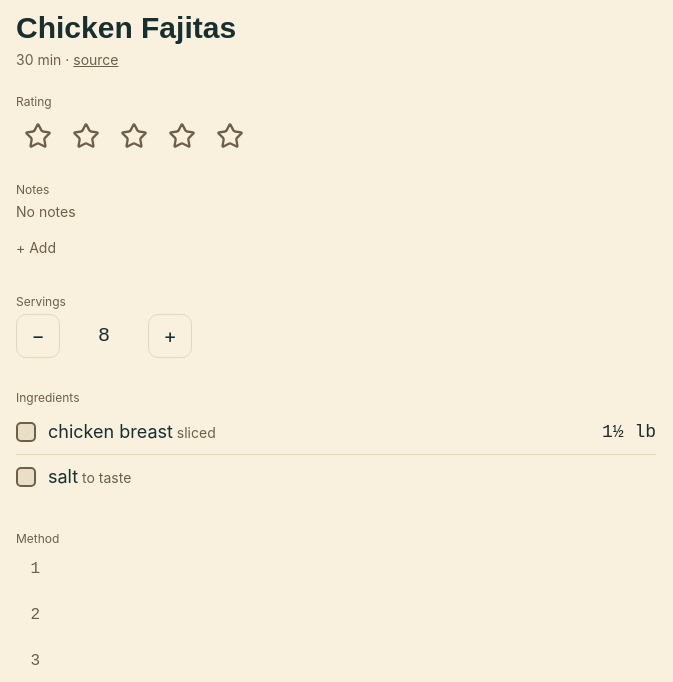
Scenario: the cook view › says the amounts are stale while it scales, rather than showing them as the new count
Click the button named "More servings". click: [170, 336]
box: [148, 314, 192, 358]
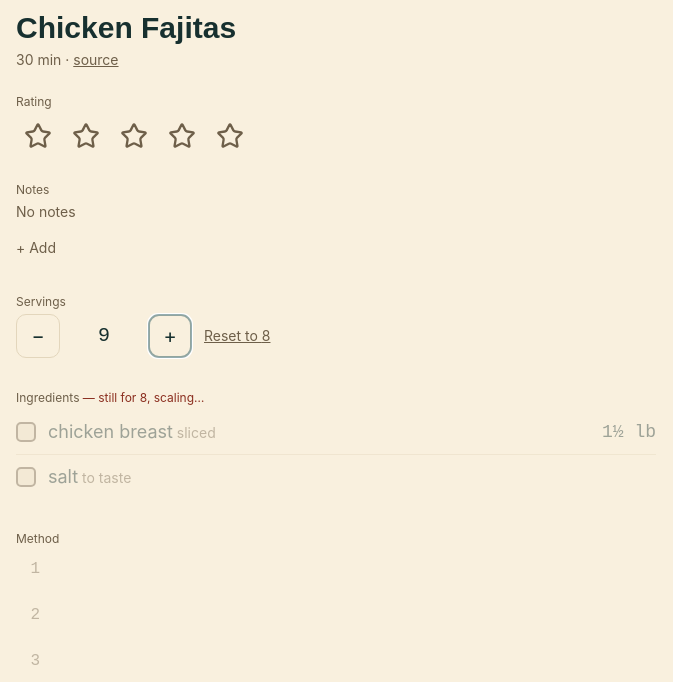
Now the text "— still for 8, scaling…" is shown, box [80, 390, 204, 405]
